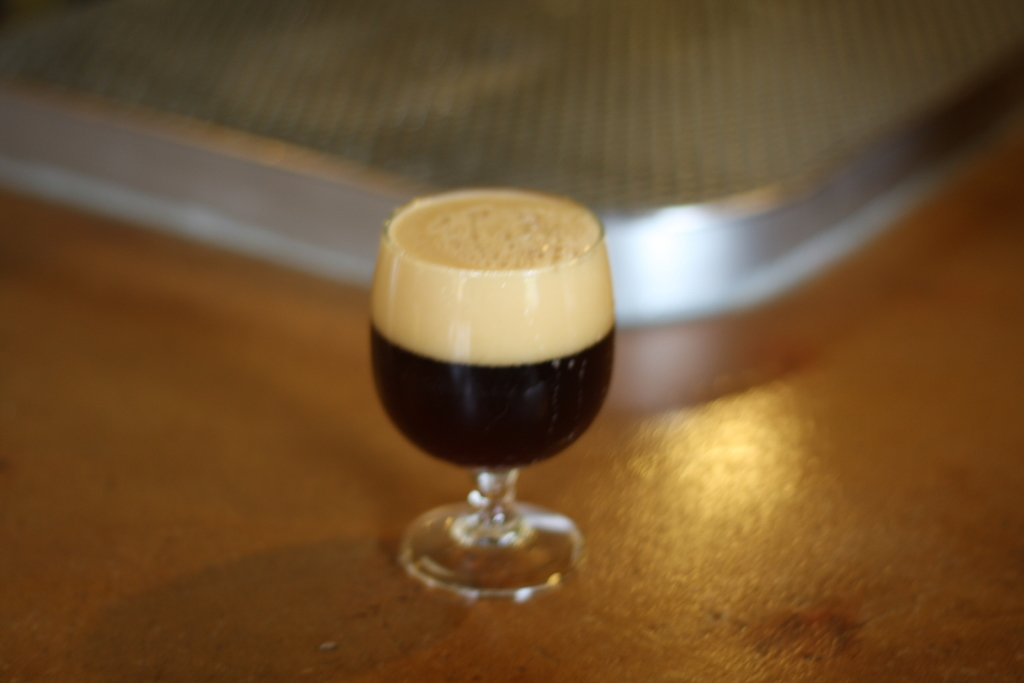Beer: (368, 190, 617, 467)
